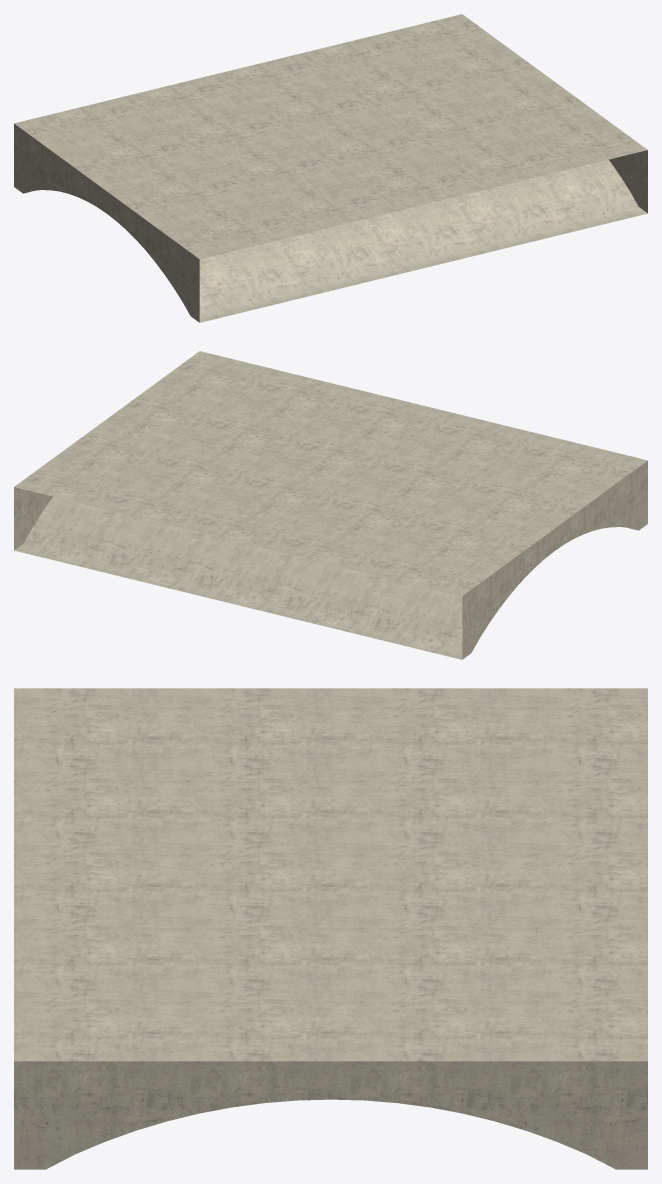
The model's file is BridgeBase7-4L.fbx.
3 views of the same model, one above another, from view 1: azimuth 30°, elevation 25°; view 2: azimuth 150°, elevation 25°; view 3: azimuth 270°, elevation 25° (orthographic). The views are drawn at different scales.
Visible parts, largest first — view 1: BridgeBase7-4L; view 2: BridgeBase7-4L; view 3: BridgeBase7-4L.
Part boxes in pixels (x1,y1,x2,y2): BridgeBase7-4L: [14, 14, 647, 322]; BridgeBase7-4L: [14, 351, 647, 659]; BridgeBase7-4L: [14, 688, 647, 1169].
Bounding box in the file's own units: 28 × 3.79 × 20.1.
